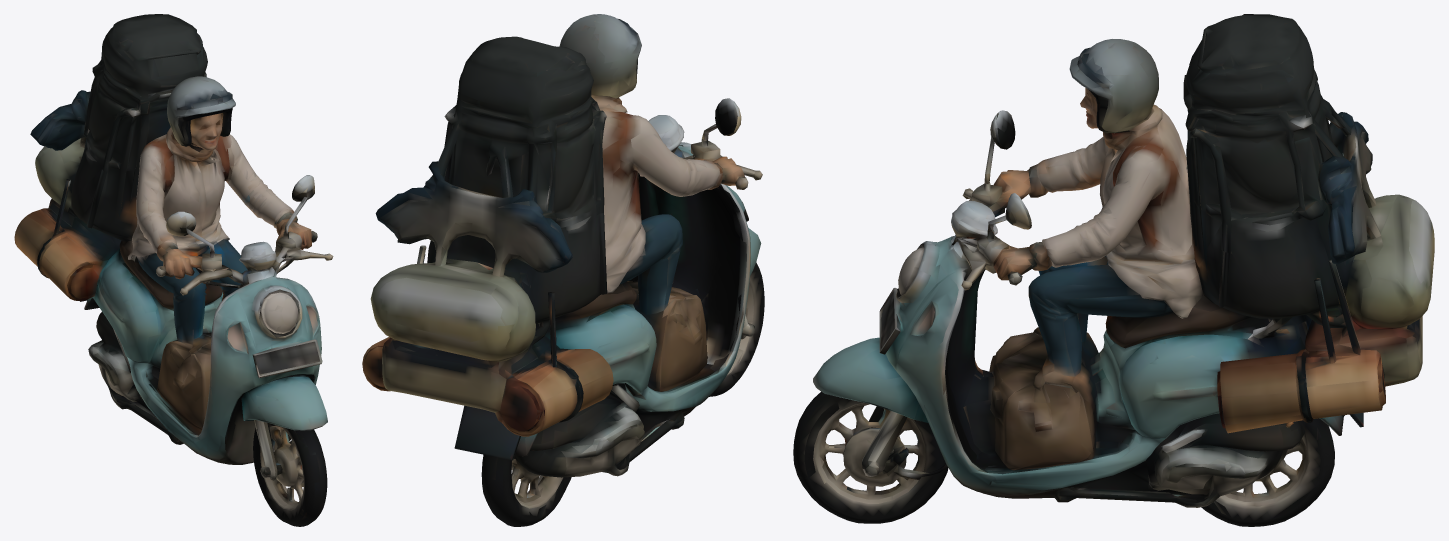
Rendered from scoopy.glb.
The picture shows the model from 3 angles, left to right: view 1: azimuth 30°, elevation 25°; view 2: azimuth 150°, elevation 25°; view 3: azimuth 270°, elevation 25°; orthographic projection. The views are drawn at different scales.
Visible parts, largest first — view 1: tripo_node_57d0da6b; view 2: tripo_node_57d0da6b; view 3: tripo_node_57d0da6b.
Part boxes in pixels (x1,y1,x2,y2): tripo_node_57d0da6b: (14,14,333,526); tripo_node_57d0da6b: (362,14,764,526); tripo_node_57d0da6b: (793,14,1434,526).
Bounding box in the file's own units: 40.6 × 85.61 × 100.
1 material, 1 textured.
